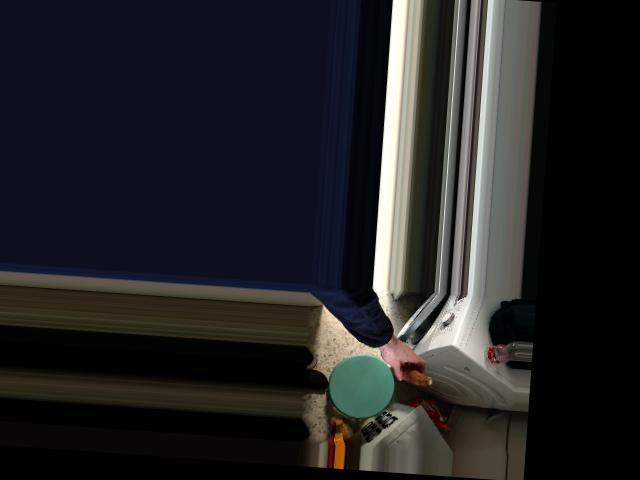sweet_potato: (379, 353, 433, 385)
